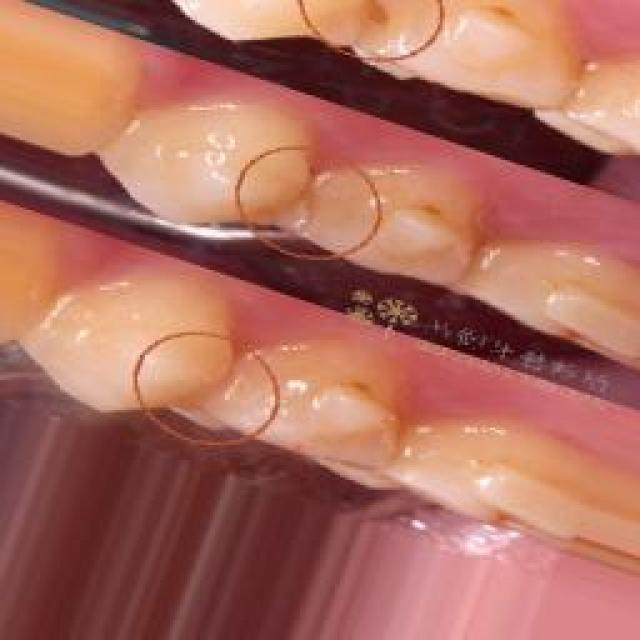decay: (293, 172, 333, 220), (358, 3, 393, 43)
